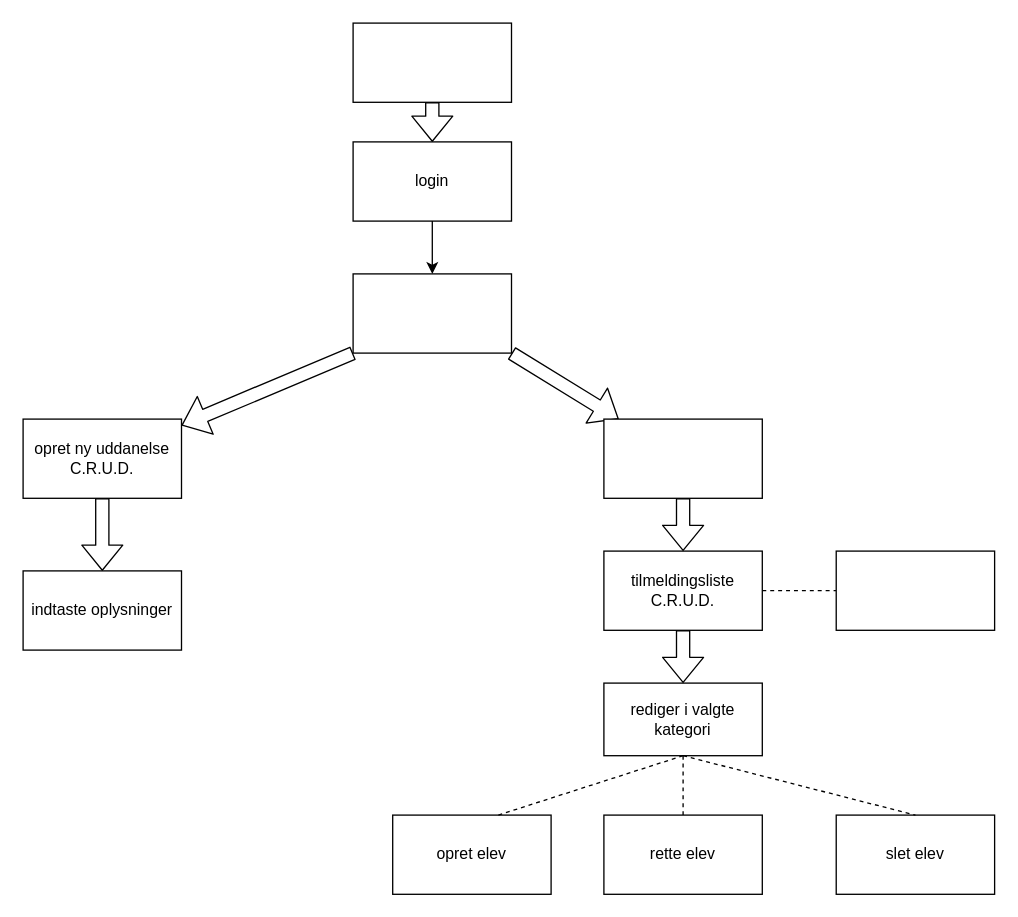
Image size: 1018x917. Some labels were removed from this diagram. Here are the shapes that lost their labels. From the top down, the centre of each, then its label:
At point (432, 62): "admin".
At point (432, 313): "oversigt".
At point (682, 458): "kategori af uddanelser".
At point (915, 590): "rette i uddannelsen".
